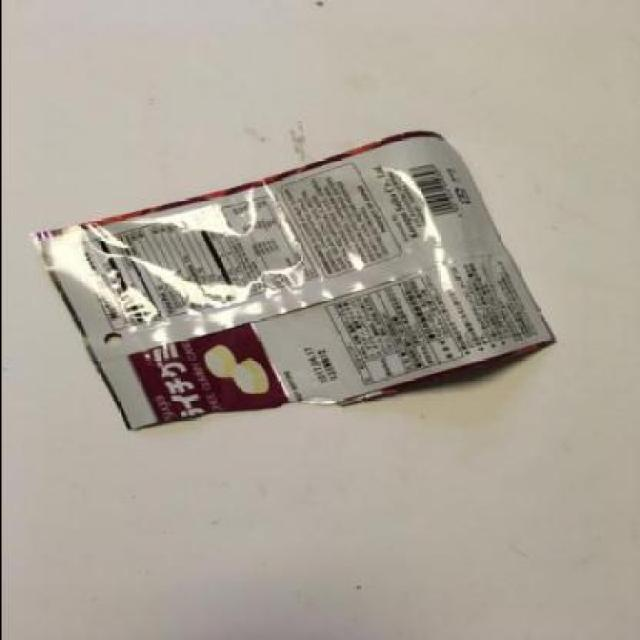PLASTIC: (30, 130, 556, 432)
